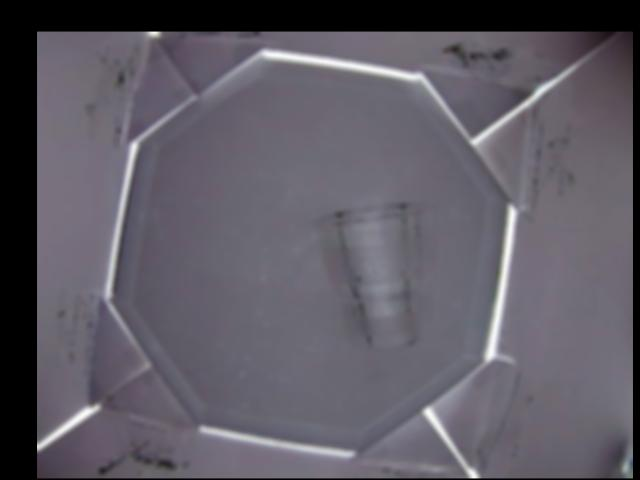Cup: (321, 203, 434, 349)
